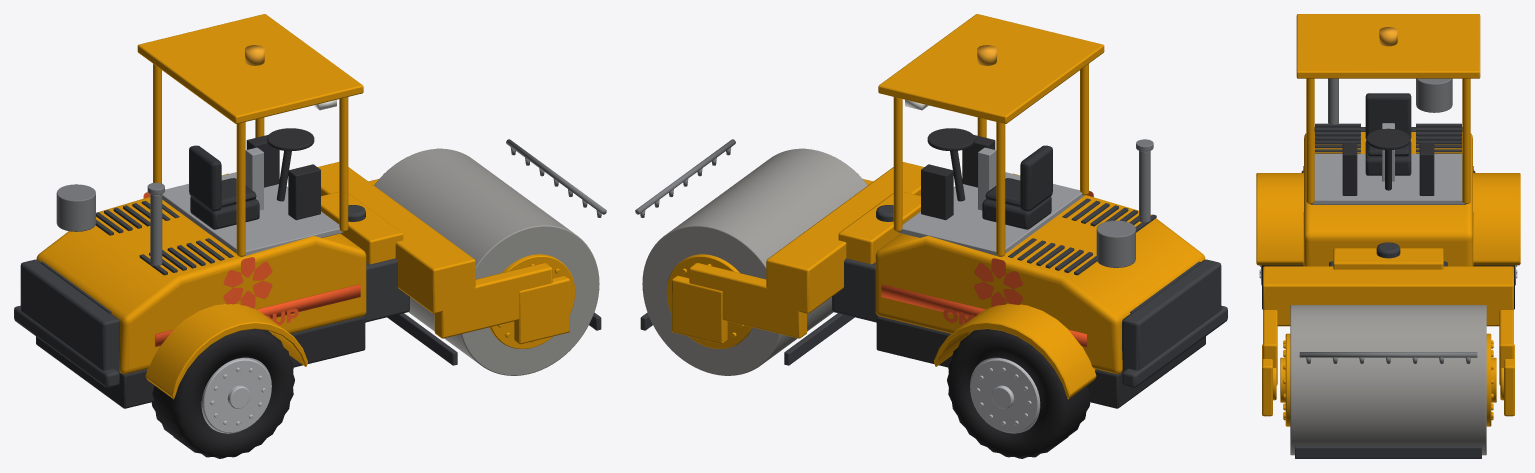
Rendered from om-group-roller.glb.
3 renders of one model, left to right at view 1: azimuth 30°, elevation 25°; view 2: azimuth 150°, elevation 25°; view 3: azimuth 270°, elevation 25°, orthographic. The views are drawn at different scales.
Visible parts, largest first — view 1: EngineHood, Drum_Shell, ROPS, DrumFrame, RearWheelL_Tyre, Counterweight, Platform, Mudguard_1, Chassis, RearWheelL_Rim, Controls, Seat (+8 smaller); view 2: EngineHood, Drum_Shell, ROPS, DrumFrame, RearWheelR_Tyre, Counterweight, Platform, Mudguard_-1, Chassis, RearWheelR_Rim, Controls, Seat (+8 smaller); view 3: Drum_Shell, DrumFrame, ROPS, EngineHood, Platform, Mudguard_1, Mudguard_-1, Controls, Seat, Scrapers, Grille, Exhaust (+4 smaller).
Boxes of the visible parts, x1=… form: EngineHood: x1=36, y1=173, x2=366, y2=374; Drum_Shell: x1=374, y1=148, x2=599, y2=375; ROPS: x1=137, y1=14, x2=363, y2=256; DrumFrame: x1=317, y1=162, x2=569, y2=344; RearWheelL_Tyre: x1=151, y1=329, x2=294, y2=458; Counterweight: x1=14, y1=259, x2=119, y2=387; Platform: x1=162, y1=147, x2=343, y2=256; Mudguard_1: x1=145, y1=304, x2=307, y2=399; Chassis: x1=36, y1=316, x2=365, y2=408; RearWheelL_Rim: x1=201, y1=357, x2=271, y2=433; Controls: x1=246, y1=128, x2=320, y2=220; Seat: x1=189, y1=145, x2=259, y2=229; EngineHood: x1=875, y1=173, x2=1205, y2=374; Drum_Shell: x1=642, y1=148, x2=867, y2=375; ROPS: x1=878, y1=14, x2=1104, y2=256; DrumFrame: x1=672, y1=162, x2=924, y2=344; RearWheelR_Tyre: x1=947, y1=329, x2=1090, y2=458; Counterweight: x1=1122, y1=259, x2=1227, y2=387; Platform: x1=898, y1=147, x2=1084, y2=256; Mudguard_-1: x1=934, y1=303, x2=1096, y2=399; Chassis: x1=876, y1=316, x2=1205, y2=408; RearWheelR_Rim: x1=970, y1=357, x2=1040, y2=433; Controls: x1=921, y1=128, x2=995, y2=220; Seat: x1=982, y1=145, x2=1052, y2=229; Drum_Shell: x1=1290, y1=305, x2=1486, y2=455; DrumFrame: x1=1262, y1=248, x2=1514, y2=416; ROPS: x1=1296, y1=14, x2=1480, y2=203; EngineHood: x1=1304, y1=132, x2=1472, y2=266; Platform: x1=1310, y1=123, x2=1466, y2=204; Mudguard_1: x1=1256, y1=173, x2=1303, y2=265; Mudguard_-1: x1=1473, y1=173, x2=1520, y2=265; Controls: x1=1342, y1=128, x2=1434, y2=195; Seat: x1=1365, y1=93, x2=1411, y2=175; Scrapers: x1=1295, y1=445, x2=1481, y2=458; Grille: x1=1315, y1=123, x2=1461, y2=153; Exhaust: x1=1328, y1=78, x2=1452, y2=125.
Bounding box in the file's own units: 5.84 × 3.81 × 2.88.
Materials: 15 (1 with a texture image).
